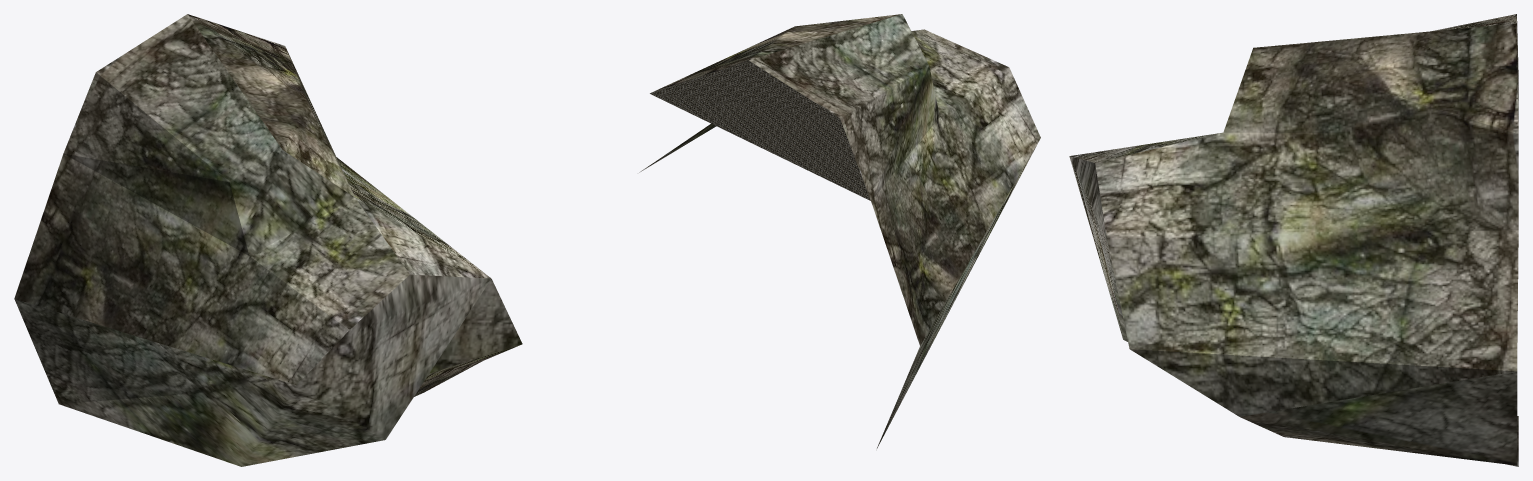
3 renders of one model, left to right at view 1: azimuth 30°, elevation 25°; view 2: azimuth 150°, elevation 25°; view 3: azimuth 270°, elevation 25°, orthographic. The views are drawn at different scales.
Visible parts, largest first — view 1: model_Object92; view 2: model_Object92; view 3: model_Object92.
Boxes of the visible parts, <box> form: model_Object92: <box>14,14,522,466</box>; model_Object92: <box>639,14,1040,448</box>; model_Object92: <box>1069,14,1518,466</box>.
Size of the model in its own units: 2.37 by 2.51 by 2.35.
1 material, 1 textured.
